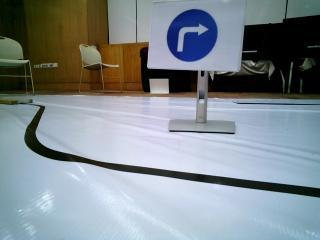right: (153, 7, 229, 64)
